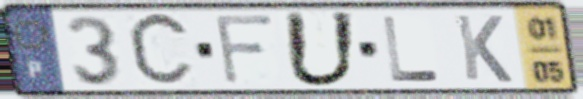3: (64, 13, 125, 87)
C: (124, 9, 197, 92)
F: (211, 12, 277, 88)
K: (452, 12, 516, 85)
L: (379, 14, 444, 84)
U: (280, 9, 361, 90)
